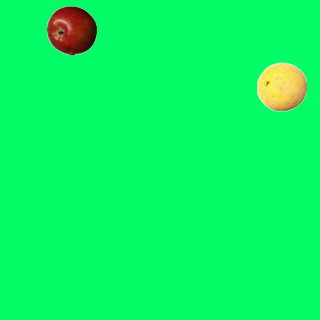Apple Braeburn: (46, 5, 96, 55)
Cantaloupe 1: (256, 61, 306, 111)
